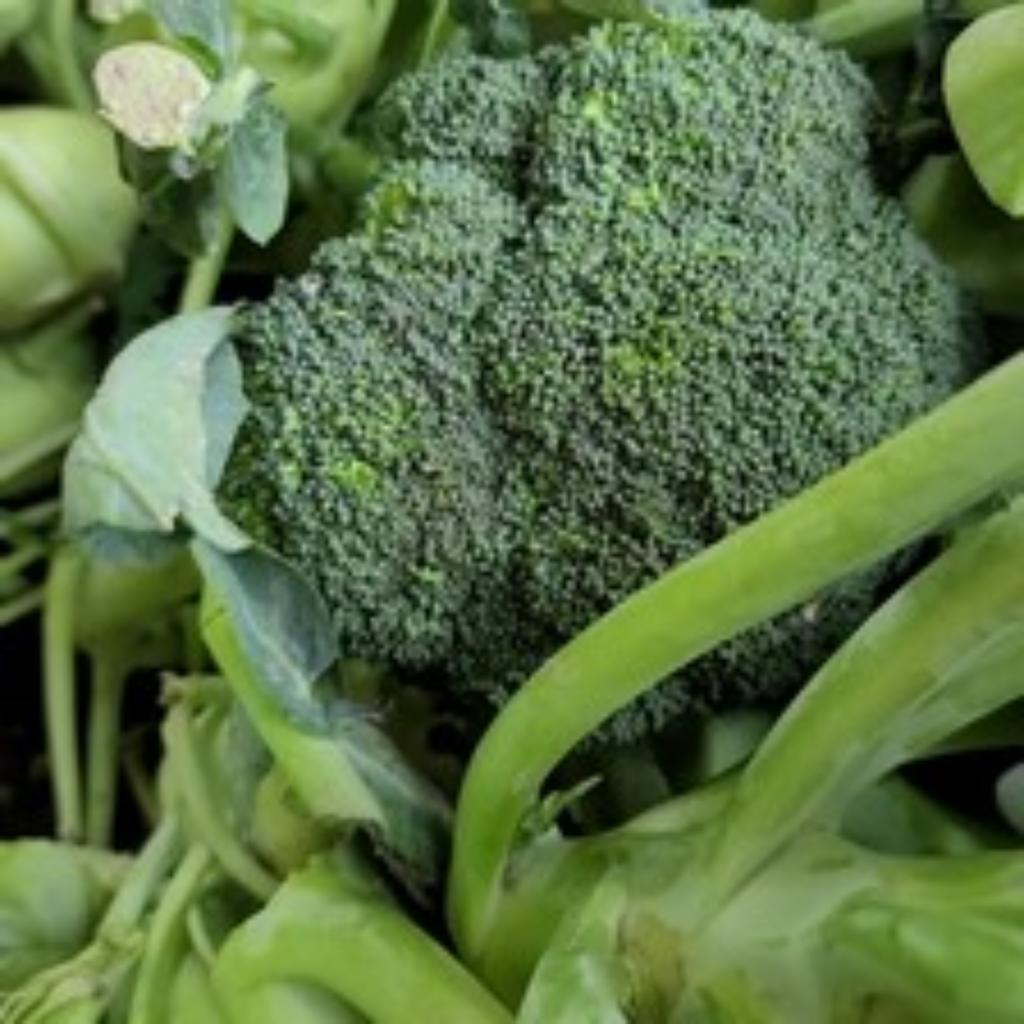Broccoli: (224, 12, 962, 701), (228, 12, 962, 699)
